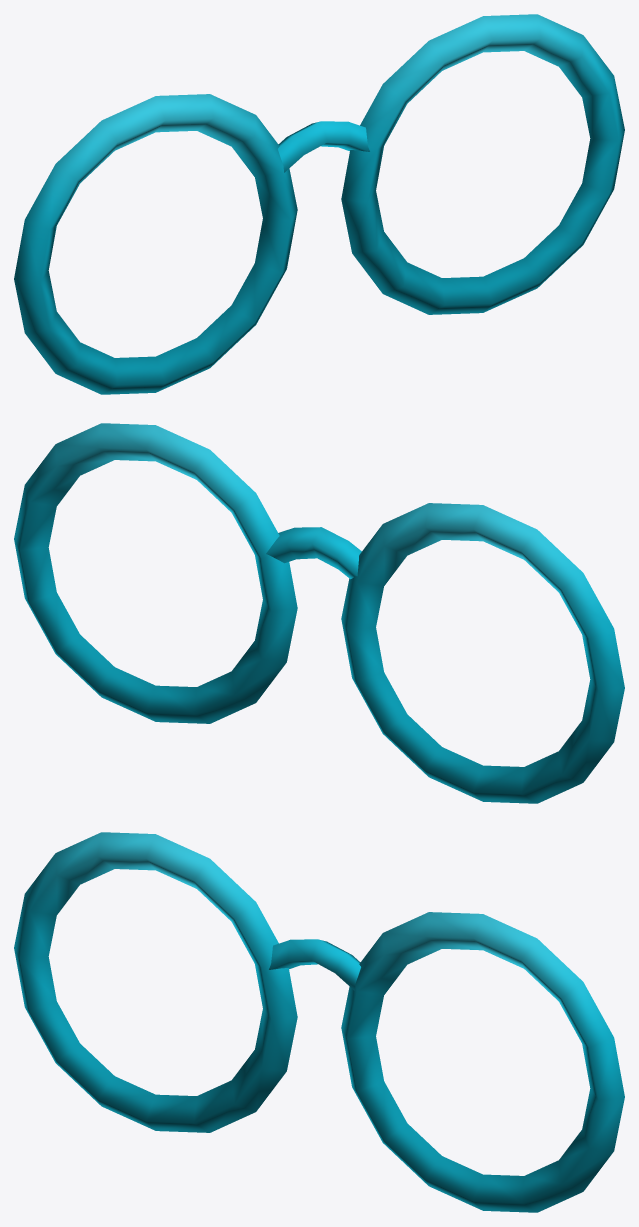
The model's file is Glasses_20.glb.
The picture shows the model from 3 angles, top to bottom: view 1: azimuth 30°, elevation 25°; view 2: azimuth 150°, elevation 25°; view 3: azimuth 330°, elevation 25°; orthographic projection.
Visible parts, largest first — view 1: Glasses_20; view 2: Glasses_20; view 3: Glasses_20.
Boxes of the visible parts, x1,y1,x2,y2 form: Glasses_20: [14, 14, 624, 394]; Glasses_20: [14, 423, 624, 803]; Glasses_20: [14, 832, 624, 1212].
Size of the model in its own units: 0.4192 by 0.1947 by 0.0237.
1 material, 1 textured.
